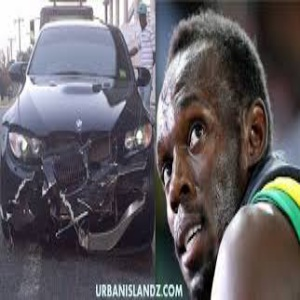bumper: (6, 173, 143, 253)
